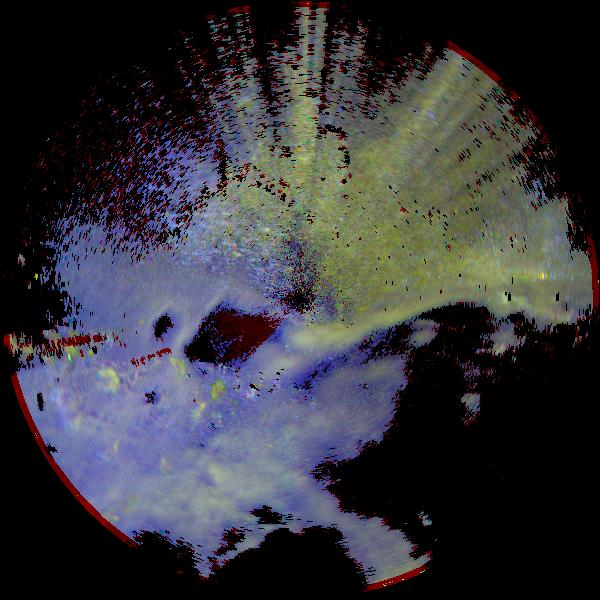roost: (160, 357, 187, 384), (98, 370, 119, 391)
